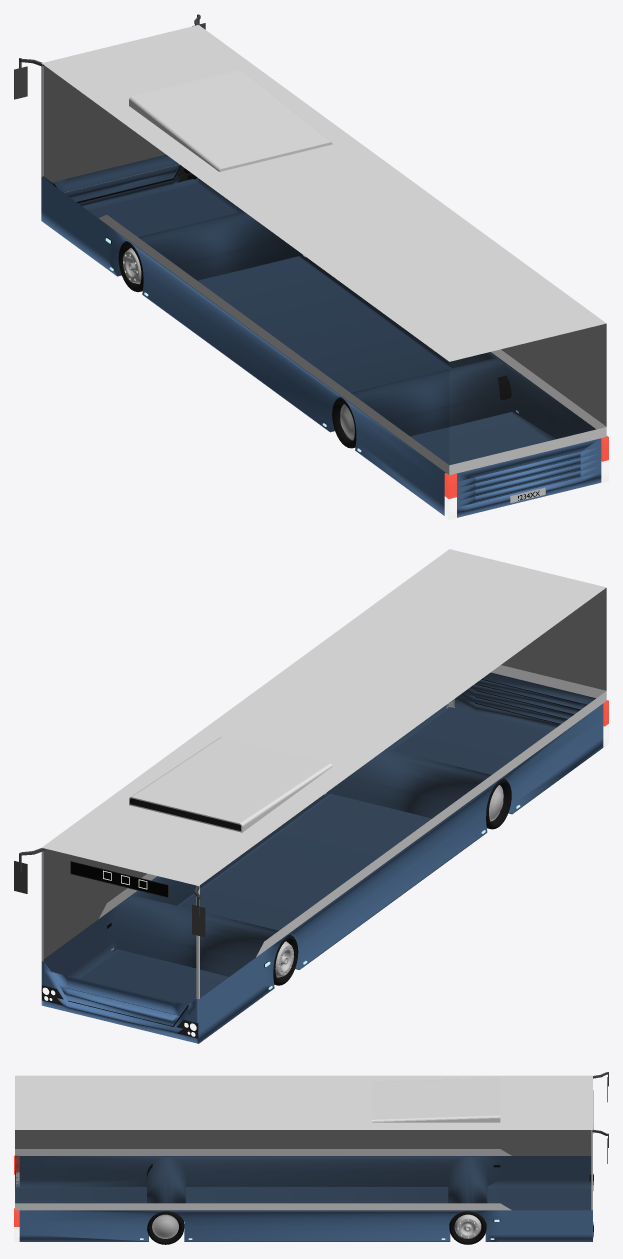
File: bus.glb
3 renders of one model, top to bottom at view 1: azimuth 30°, elevation 25°; view 2: azimuth 150°, elevation 25°; view 3: azimuth 270°, elevation 25°, orthographic. The views are drawn at different scales.
Parts seen in each view (by area): view 1: Cube, bus, Cube.002, Cylinder.002; view 2: bus, Cube, Cube.002, Plane.004, Cube.013; view 3: bus, Cube.002, Cube, Cylinder.002, Cylinder.005, Cylinder.006, Cylinder.003.
Boxes of the visible parts, x1,y1,x2,y2 form: Cube: (41, 25, 606, 475); bus: (41, 155, 601, 517); Cube.002: (42, 64, 606, 464); Cylinder.002: (332, 376, 511, 448); bus: (41, 672, 603, 1043); Cube: (41, 549, 606, 999); Cube.002: (43, 588, 606, 1004); Plane.004: (71, 861, 167, 897); Cube.013: (130, 798, 240, 830); bus: (15, 1156, 592, 1241); Cube.002: (15, 1130, 591, 1210); Cube: (15, 1075, 592, 1210); Cylinder.002: (147, 1164, 184, 1244); Cylinder.005: (454, 1214, 481, 1238); Cylinder.006: (152, 1214, 178, 1238); Cylinder.003: (449, 1211, 486, 1244).
Bounding box in the file's own units: 1.13 × 0.9693 × 4.29.
